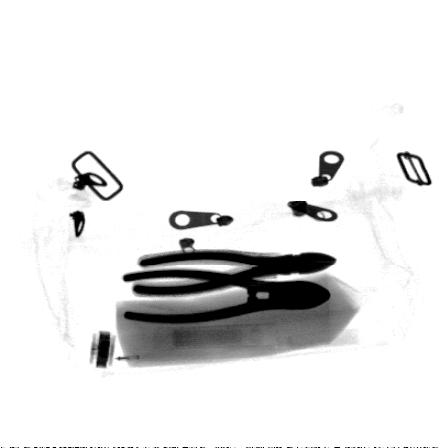Pliers: (121, 269, 332, 325), (130, 250, 339, 298)
